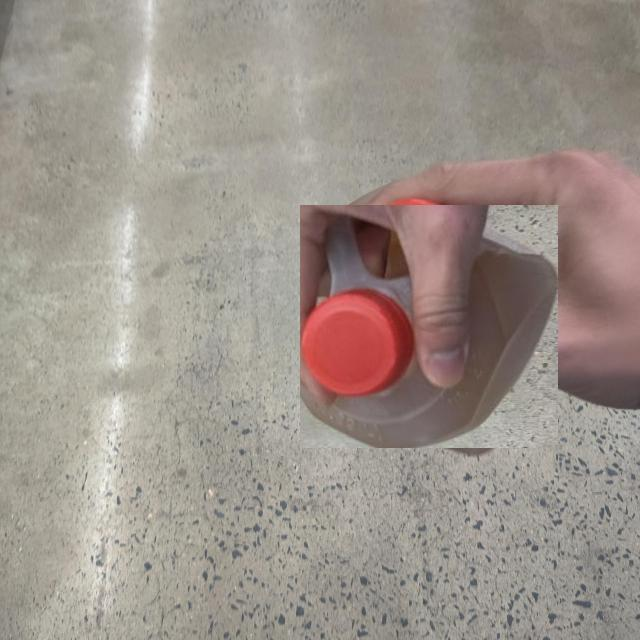Juice: (301, 204, 558, 448)
